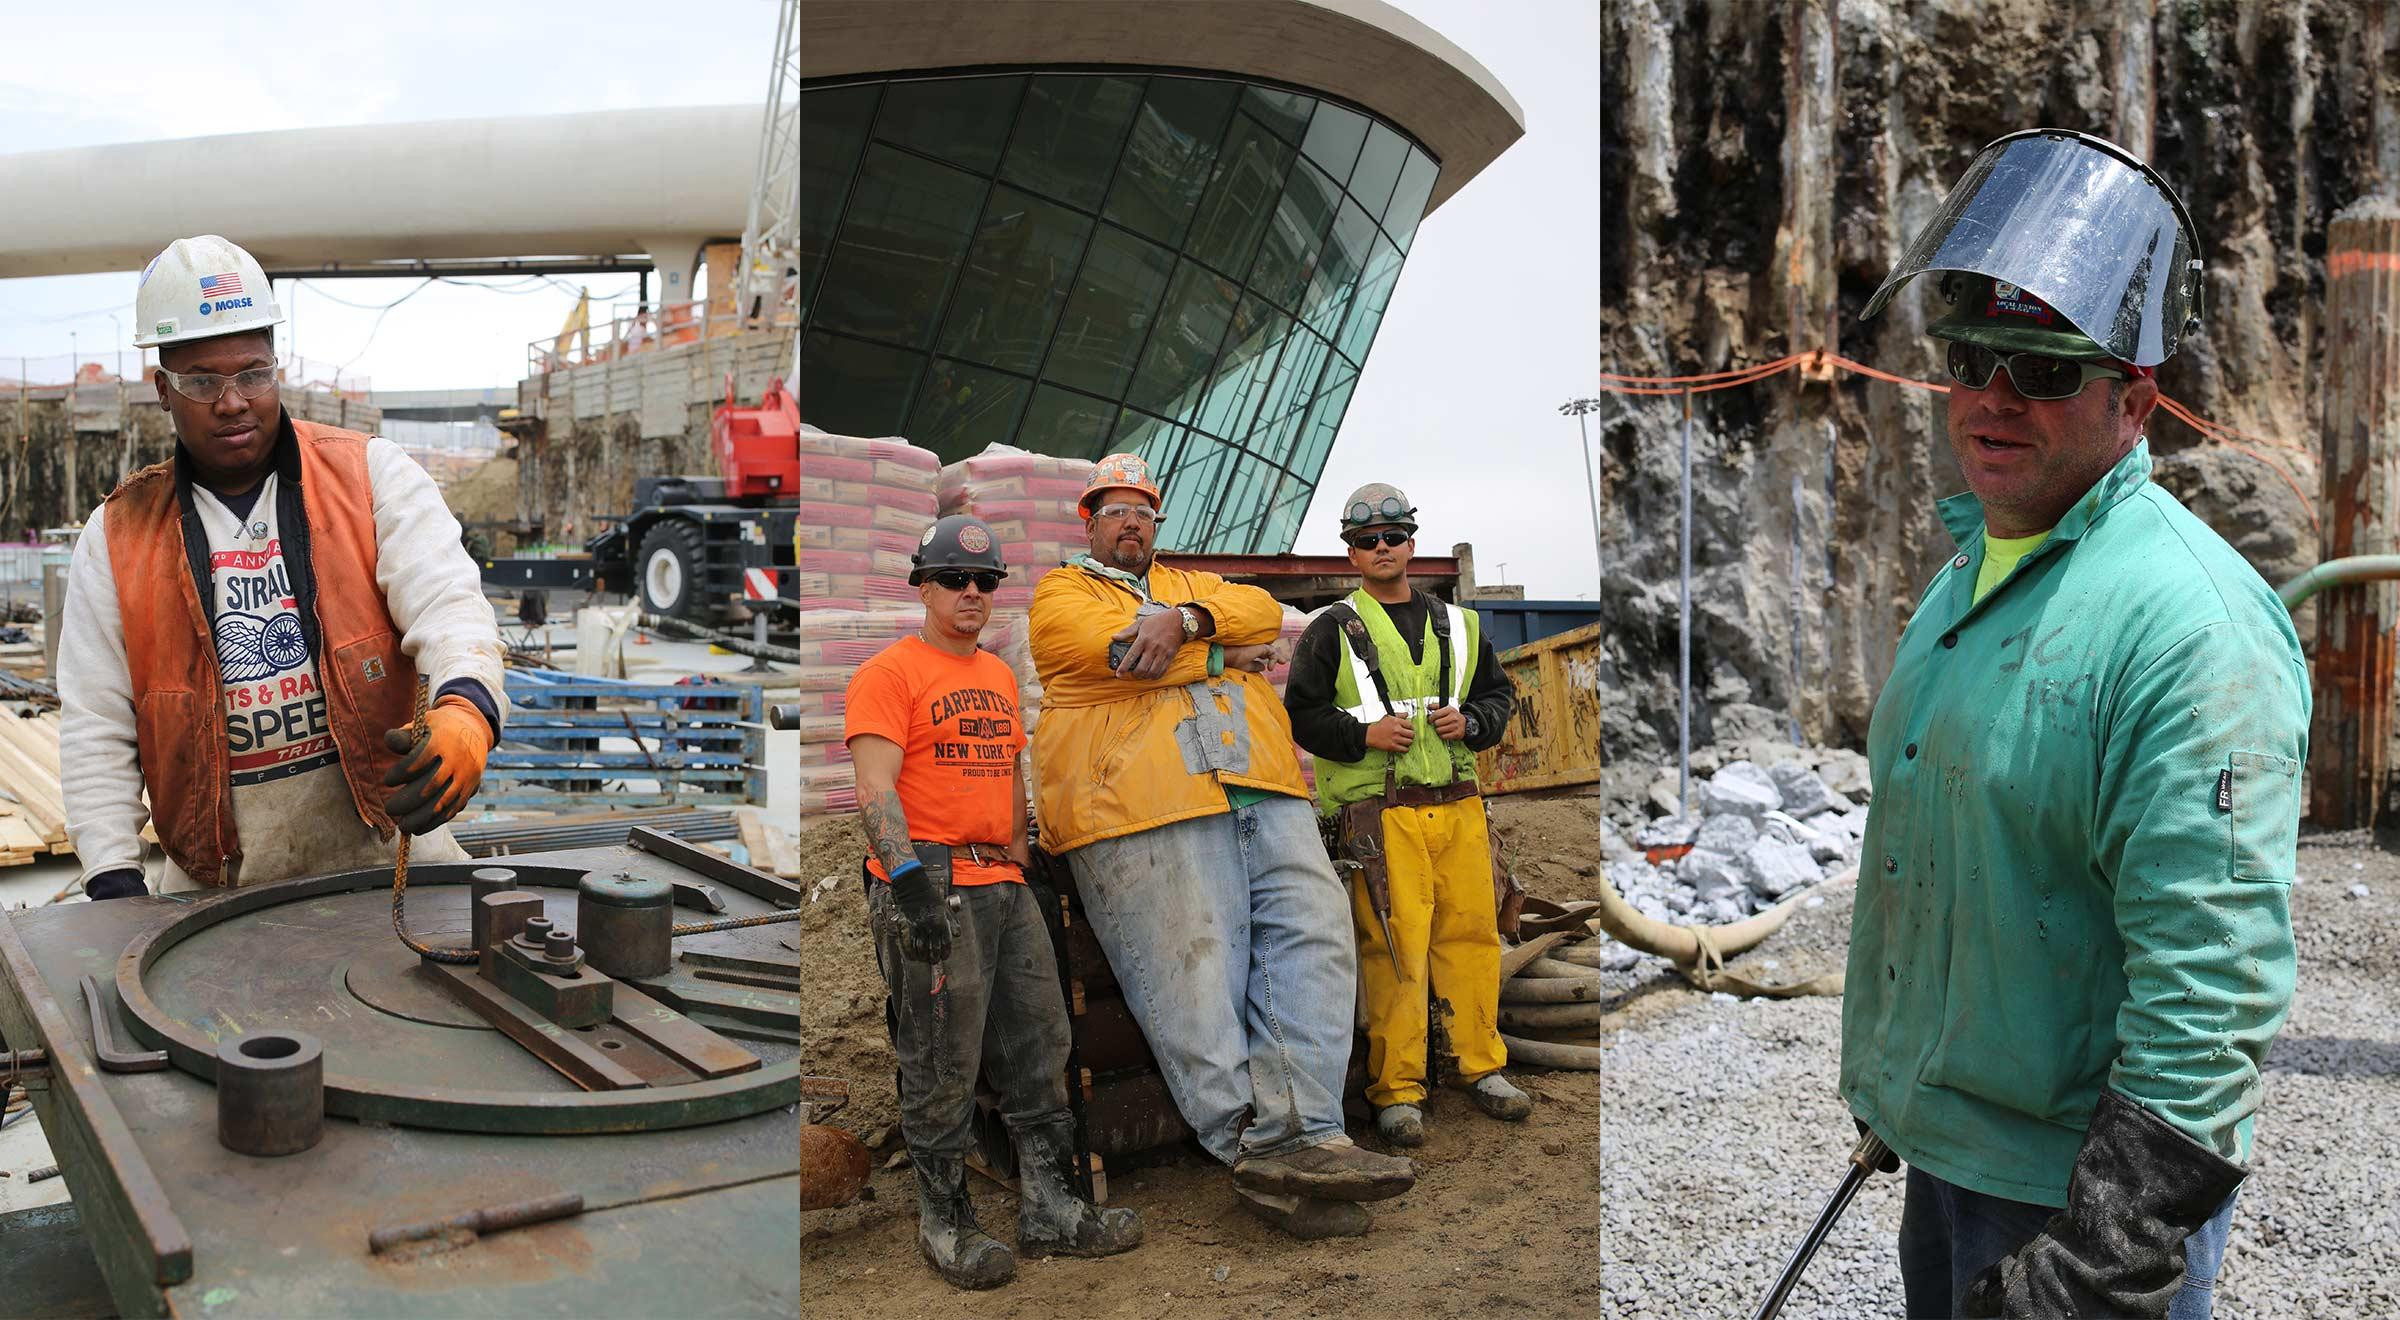helmet: (1856, 135, 2179, 371), (132, 237, 279, 353), (908, 506, 1011, 595), (1337, 480, 1423, 549), (1076, 462, 1163, 520)
